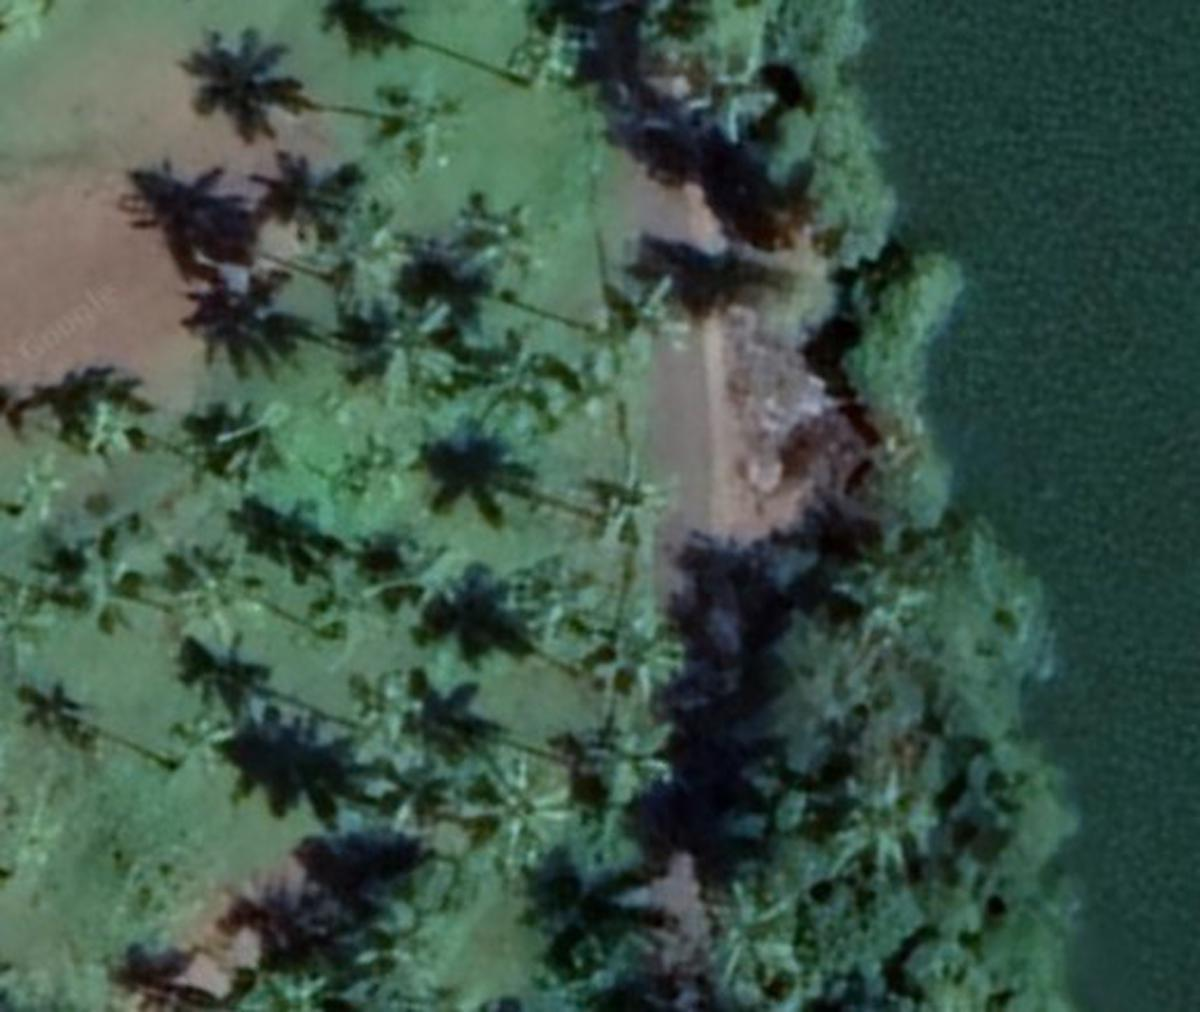coconut: (575, 445, 680, 575), (366, 292, 473, 408), (454, 765, 570, 868), (192, 389, 315, 485), (324, 204, 420, 327), (454, 185, 559, 292), (369, 524, 473, 631), (610, 280, 707, 392), (171, 540, 283, 635), (835, 763, 940, 863), (596, 594, 691, 703), (496, 547, 589, 652), (58, 392, 167, 475), (700, 891, 793, 986), (345, 661, 443, 745), (385, 85, 473, 178), (835, 557, 928, 645), (582, 714, 675, 800), (171, 714, 257, 800), (11, 459, 88, 526)
